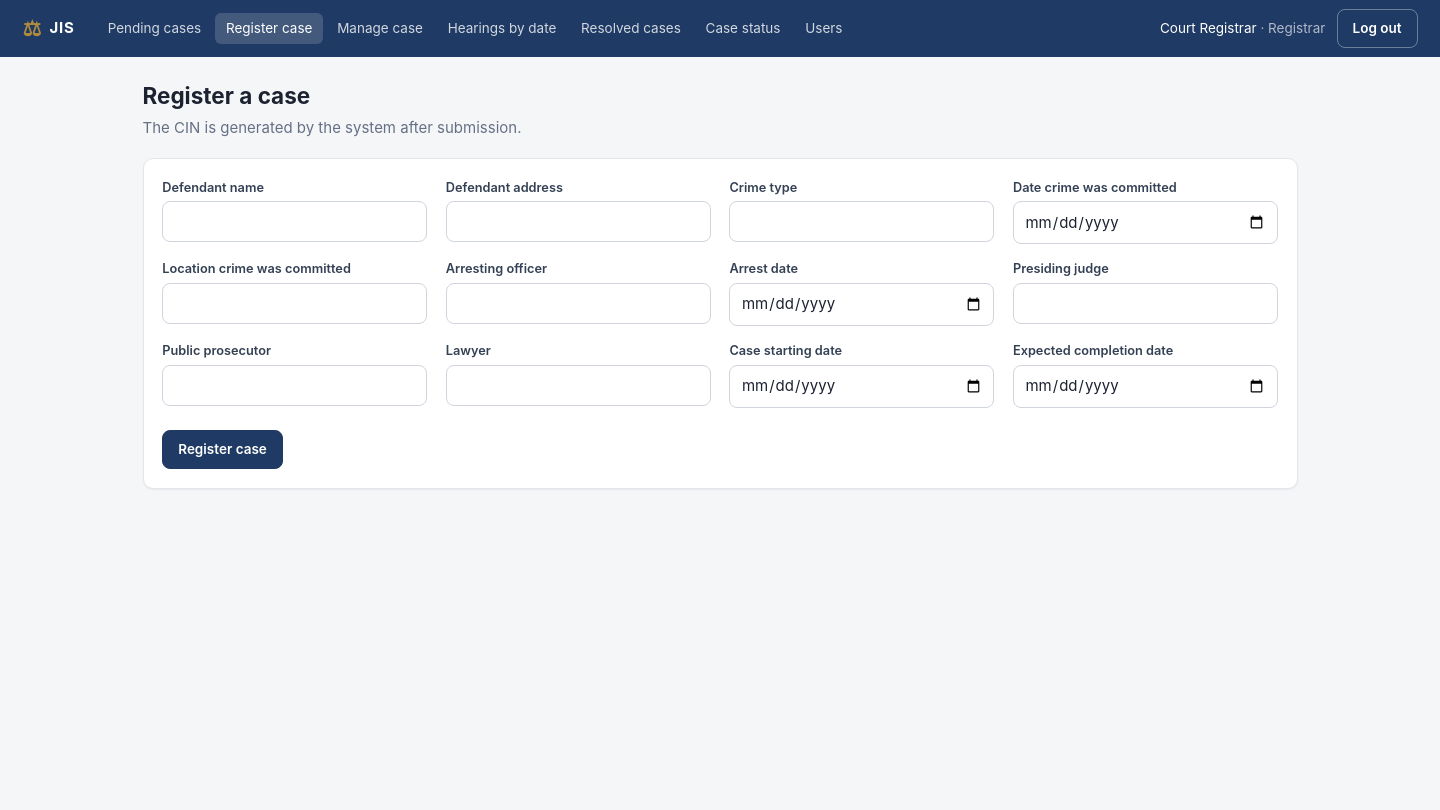
Scenario: case registration › shows validation errors for an empty form and does not submit
Click the button "Register case": [223, 450] box [162,430,283,469]
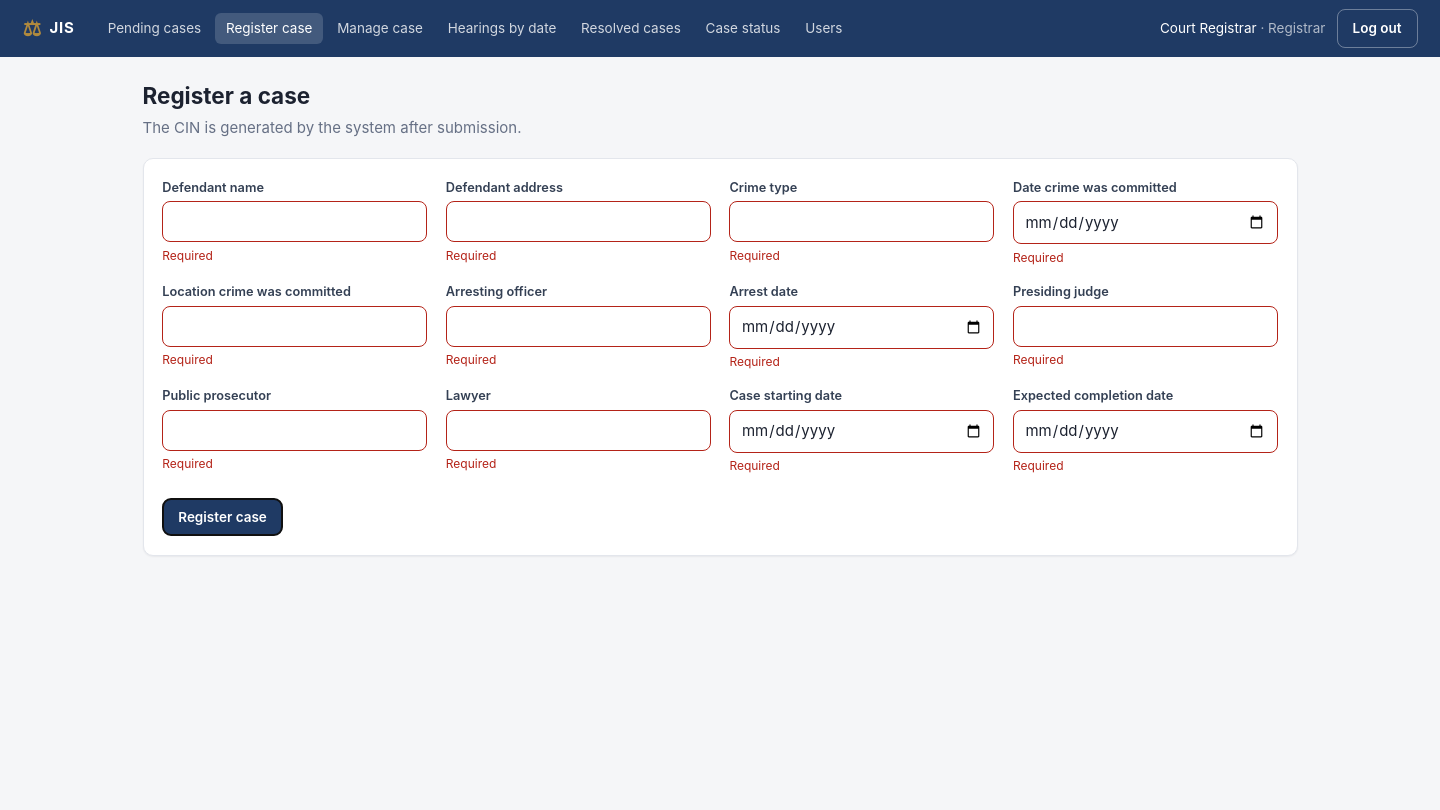
Expected: the text "Required" is shown 12 times
